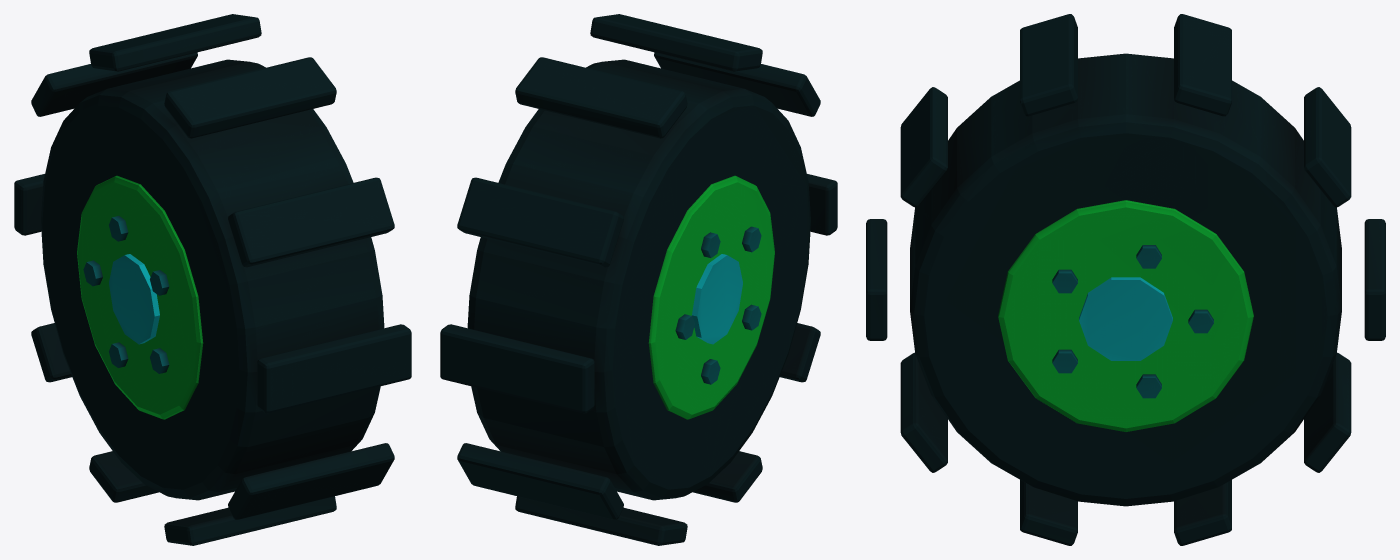
File: tyre_paddle.glb
3 renders of one model, left to right at view 1: azimuth 30°, elevation 25°; view 2: azimuth 150°, elevation 25°; view 3: azimuth 270°, elevation 25°, orthographic. The views are drawn at different scales.
Visible parts, largest first — view 1: tyre_paddle; view 2: tyre_paddle; view 3: tyre_paddle.
Boxes of the visible parts, <box> form: tyre_paddle: <box>14,14,411,545</box>; tyre_paddle: <box>440,14,837,545</box>; tyre_paddle: <box>866,14,1385,545</box>.
Bounding box in the file's own units: 0.288 × 0.7153 × 0.73.
Materials: 1 (1 with a texture image).
